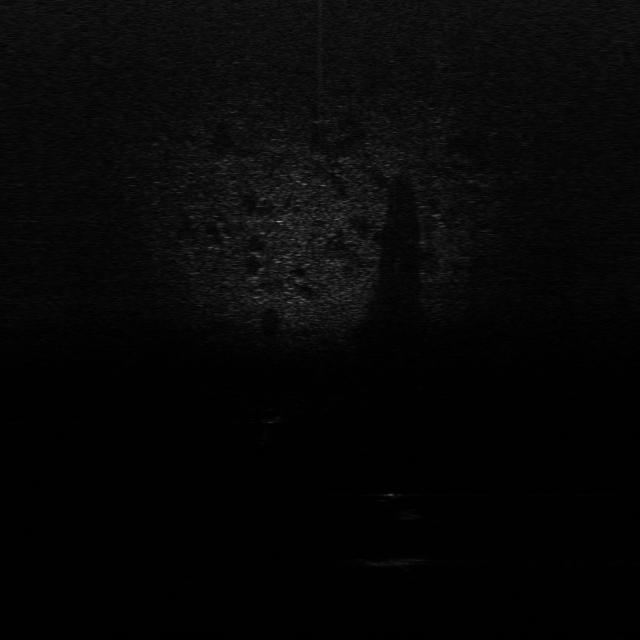ball: (258, 406, 284, 424)
metal bucket: (358, 551, 426, 573)
tyre: (373, 487, 421, 523)
